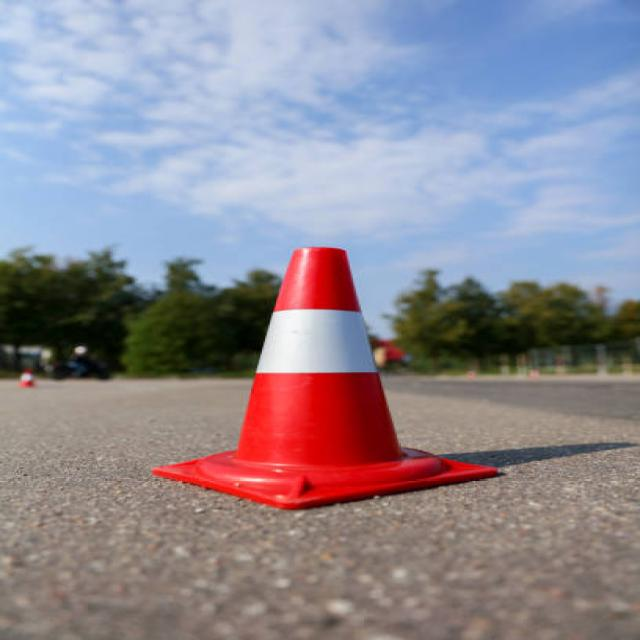Traffic Cone: (128, 214, 528, 523)
